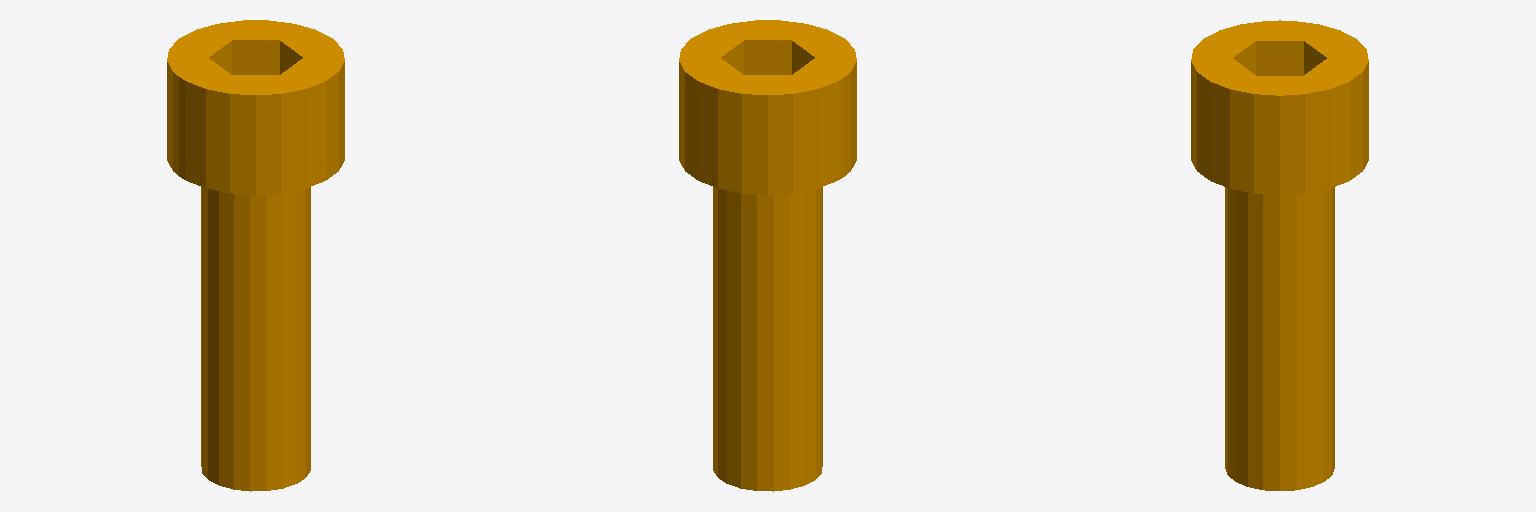
robot.urdf — screw_M8:
<?xml version="1.0"?>
<robot name="screw_M8">

<link name="base_link">

  <collision>
    <origin xyz="0 0 0" rpy="0 0 0"/>
    <geometry>
      <mesh filename="package://ur_description/meshes/ur3/collision/screw_M8.dae" scale="1 1 1"/>
    </geometry>
  </collision>

  <visual>
    <origin xyz="0 0 0" rpy="0 0 0"/>
    <geometry>
      <mesh filename="package://ur_description/meshes/ur3/visual/screw_M8.dae" scale="1 1 1"/>
    </geometry>
  </visual>

  <inertial>
   <origin xyz="0 0 0" rpy="0 1.5708 0"/>
   <mass value="0.004" />
   <inertia
      ixx="0.00000379215" ixy="0.0"  ixz="0.0"
      iyy="0.00000379215" iyz="0.0"  izz="0.00000379215" />
  </inertial>

</link>

<gazebo reference="base_link">
  <mu1>100</mu1>
  <mu2>100</mu2>
  <kp>2147483647</kp>
  <kd>1</kd>
  <maxVel>0</maxVel>
  <minDepth>0.001</minDepth>
  <material>Gazebo/Green</material>
</gazebo>

</robot>

--- Render facts (derived) ---
Views: 3 orthographic renders of the robot side by side, from view 1: azimuth 30°, elevation 25°; view 2: azimuth 150°, elevation 25°; view 3: azimuth 270°, elevation 25°.
Robot: screw_M8 — 1 links, 0 joints (none); root link base_link; default pose: all joints at 0.
Links seen in each view (by area): view 1: base_link; view 2: base_link; view 3: base_link.
Boxes of the visible links, <box> form: base_link: <box>167,20,344,491</box>; base_link: <box>679,20,856,491</box>; base_link: <box>1191,20,1368,490</box>.
Bounding box of the posed robot: 0.013 × 0.013 × 0.033 m (x, y, z).
Meshes: 1 distinct files referenced, 1 mesh visuals loaded (1 Collada DAE).
